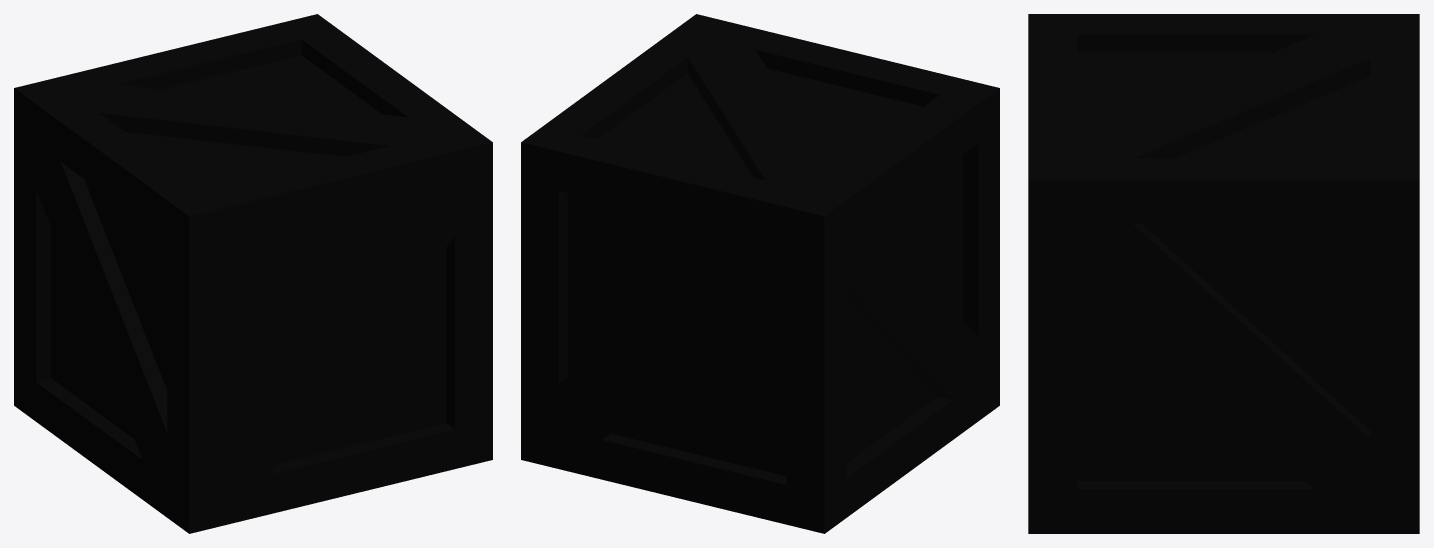
The model's file is sm_forest_box.fbx.
3 views of the same model, side by side, from view 1: azimuth 30°, elevation 25°; view 2: azimuth 150°, elevation 25°; view 3: azimuth 270°, elevation 25° (orthographic). The views are drawn at different scales.
Visible parts, largest first — view 1: Cube.004; view 2: Cube.004; view 3: Cube.004.
Boxes of the visible parts, x1,y1,x2,y2 form: Cube.004: (14, 14, 492, 533); Cube.004: (521, 14, 999, 533); Cube.004: (1028, 14, 1419, 533).
Bounding box in the file's own units: 100 × 100 × 100.
